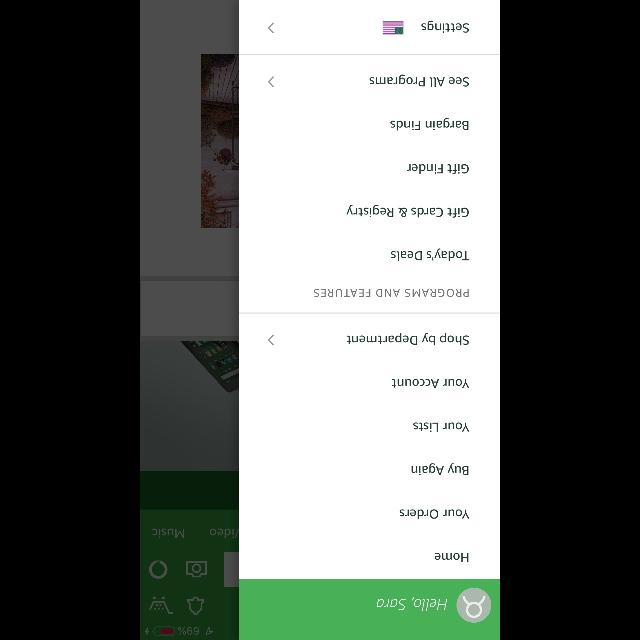icon: (456, 588, 492, 622), (268, 22, 274, 34), (268, 76, 274, 88), (268, 334, 274, 346)
image: (382, 22, 403, 34)
panel: (239, 1, 499, 640)
text: (347, 332, 469, 346), (346, 205, 468, 218), (369, 74, 469, 88), (314, 289, 468, 297), (391, 248, 469, 262), (377, 596, 448, 610), (390, 118, 468, 130), (392, 378, 468, 388), (399, 509, 468, 519), (412, 463, 468, 475), (406, 164, 468, 174), (422, 21, 468, 34), (413, 422, 469, 432), (435, 552, 469, 562)
